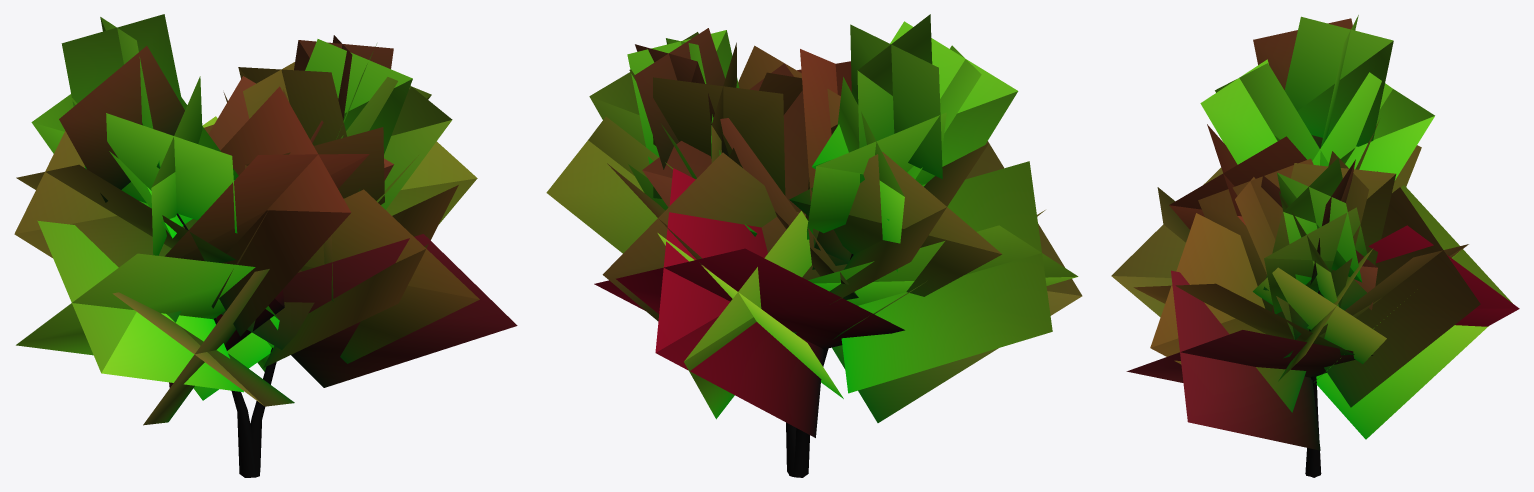
Rendered from Tree_2_8.fbx.
3 renders of one model, left to right at view 1: azimuth 30°, elevation 25°; view 2: azimuth 150°, elevation 25°; view 3: azimuth 270°, elevation 25°, orthographic. The views are drawn at different scales.
Visible parts, largest first — view 1: Tree_2_8; view 2: Tree_2_8; view 3: Tree_2_8.
Part boxes in pixels (x1=…): Tree_2_8: x1=14, y1=14, x2=517, y2=477; Tree_2_8: x1=546, y1=14, x2=1082, y2=477; Tree_2_8: x1=1111, y1=15, x2=1519, y2=477.
Bounding box in the file's own units: 5056 × 4889 × 4462.
